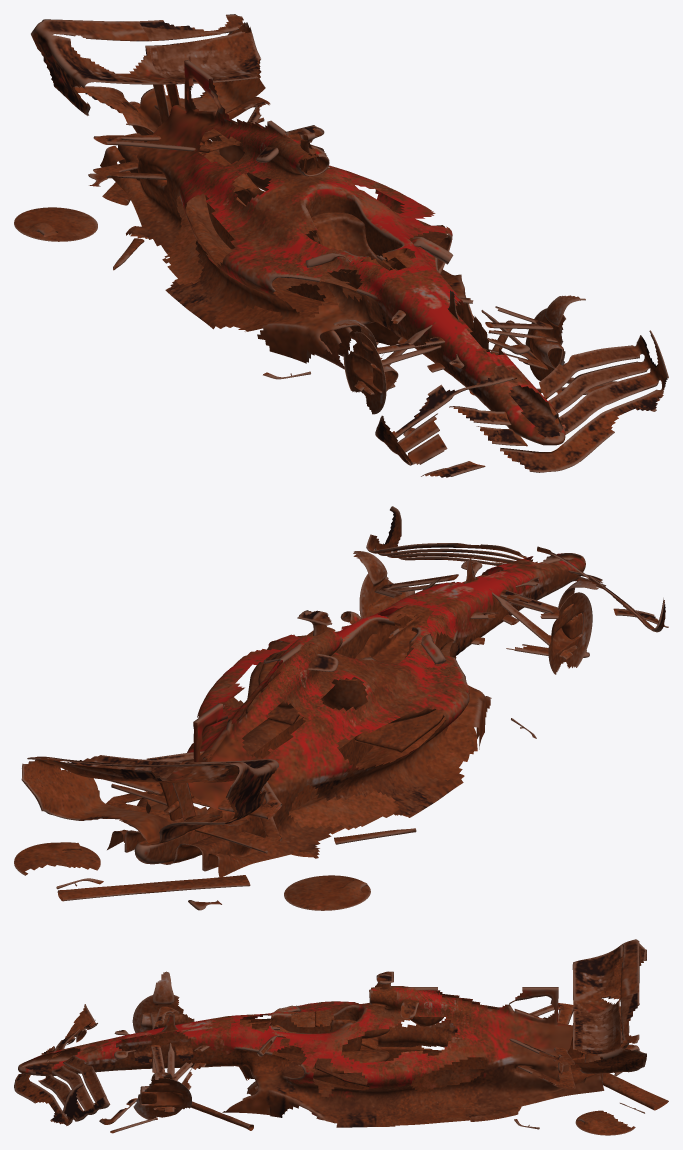
The model's file is damaged_f1_car.glb.
The picture shows the model from 3 angles, top to bottom: view 1: azimuth 30°, elevation 25°; view 2: azimuth 150°, elevation 25°; view 3: azimuth 270°, elevation 25°; orthographic projection. The views are drawn at different scales.
Visible parts, largest first — view 1: Object_3, Object_4; view 2: Object_3, Object_4; view 3: Object_3, Object_4.
Part boxes in pixels (<box>): Object_3: <box>26,14,668,477</box>; Object_4: <box>14,73,557,395</box>; Object_3: <box>21,506,668,910</box>; Object_4: <box>14,555,577,910</box>; Object_3: <box>14,939,646,1133</box>; Object_4: <box>150,971,668,1135</box>.
Size of the model in its own units: 2.25 by 1.15 by 5.68.
1 material, 1 textured.
